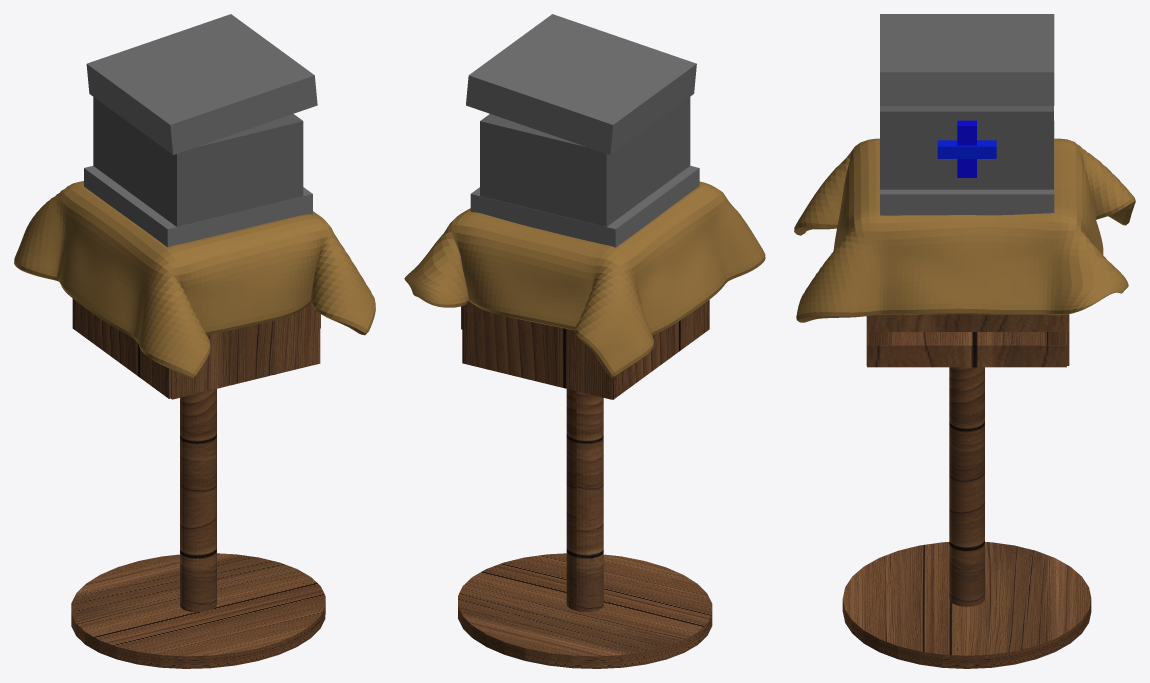
File: spawn point.fbx
3 views of the same model, side by side, from view 1: azimuth 30°, elevation 25°; view 2: azimuth 150°, elevation 25°; view 3: azimuth 270°, elevation 25° (orthographic). The views are drawn at different scales.
Parts seen in each view (by area): view 1: Plane, Cylinder, Cube.015, Cube.017, Cylinder.001, Cube.002, Cube.011, Cube.004; view 2: Plane, Cylinder, Cube.015, Cube.017, Cylinder.001, Cube.003, Cube.011, Cube.004; view 3: Plane, Cylinder, Cube.015, Cube.017, Cylinder.001, Cube, Cube.011, Cube.005, Cube.014, Cube.013.
Boxes of the visible parts, <box> form: Plane: <box>14,181,375,378</box>; Cylinder: <box>71,553,325,668</box>; Cube.015: <box>86,14,317,154</box>; Cube.017: <box>93,97,303,226</box>; Cylinder.001: <box>180,389,216,611</box>; Cube.002: <box>171,302,320,398</box>; Cube.011: <box>84,166,312,247</box>; Cube.004: <box>72,298,171,398</box>; Plane: <box>404,181,765,377</box>; Cylinder: <box>458,553,712,668</box>; Cube.015: <box>466,14,696,154</box>; Cube.017: <box>480,97,690,226</box>; Cylinder.001: <box>566,389,603,611</box>; Cube.003: <box>462,301,610,399</box>; Cube.011: <box>470,166,699,247</box>; Cube.004: <box>610,300,709,399</box>; Plane: <box>794,138,1135,322</box>; Cylinder: <box>842,542,1091,668</box>; Cube.015: <box>880,14,1054,105</box>; Cube.017: <box>880,106,1053,189</box>; Cylinder.001: <box>949,367,984,606</box>; Cube: <box>867,332,1066,367</box>; Cube.011: <box>880,121,1054,215</box>; Cube.005: <box>868,314,1068,331</box>; Cube.014: <box>937,140,996,158</box>; Cube.013: <box>957,120,976,177</box>.
Bounding box in the file's own units: 664 × 1446 × 776.
19 materials, 9 textured.
